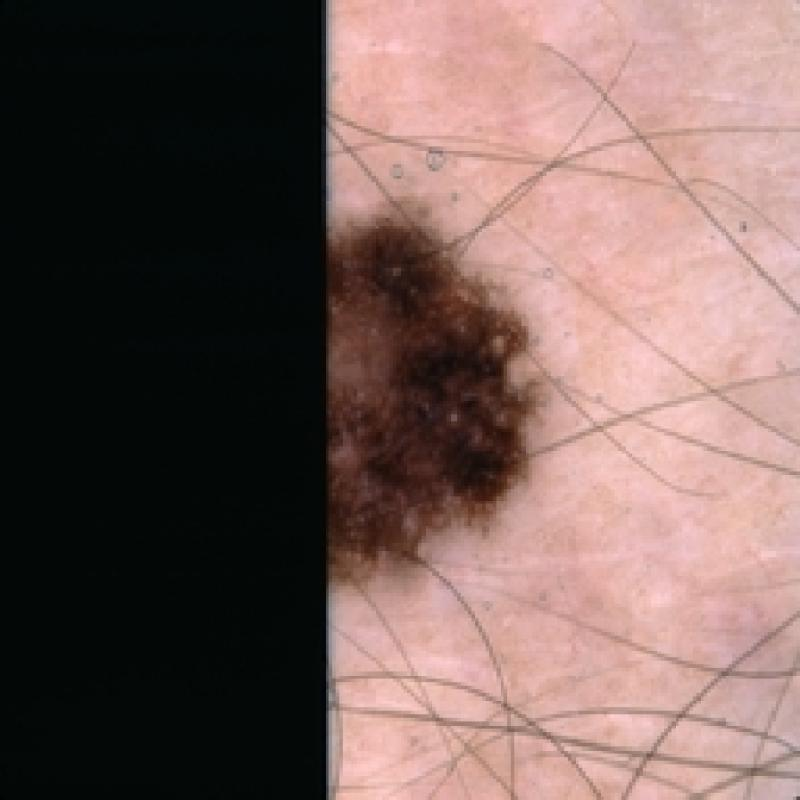malignant: (327, 208, 568, 618)
